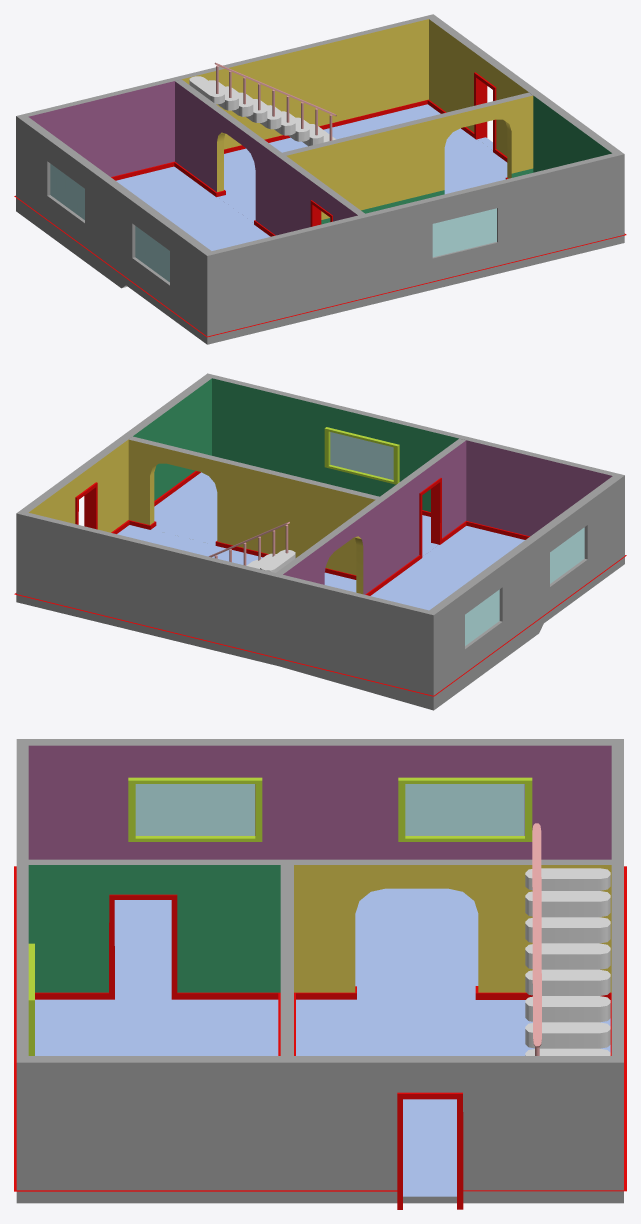
The model's file is PlantaBaja.fbx.
3 views of the same model, one above another, from view 1: azimuth 30°, elevation 25°; view 2: azimuth 150°, elevation 25°; view 3: azimuth 270°, elevation 25° (orthographic). The views are drawn at different scales.
Parts seen in each view (by area): view 1: bordes_pb; view 2: bordes_pb; view 3: bordes_pb.
Part boxes in pixels (box(x1,y1,x2,y2)): bordes_pb: box(14, 14, 626, 344); bordes_pb: box(14, 373, 626, 710); bordes_pb: box(14, 739, 626, 1209).
Bounding box in the file's own units: 12.7 × 3.65 × 10.11.
